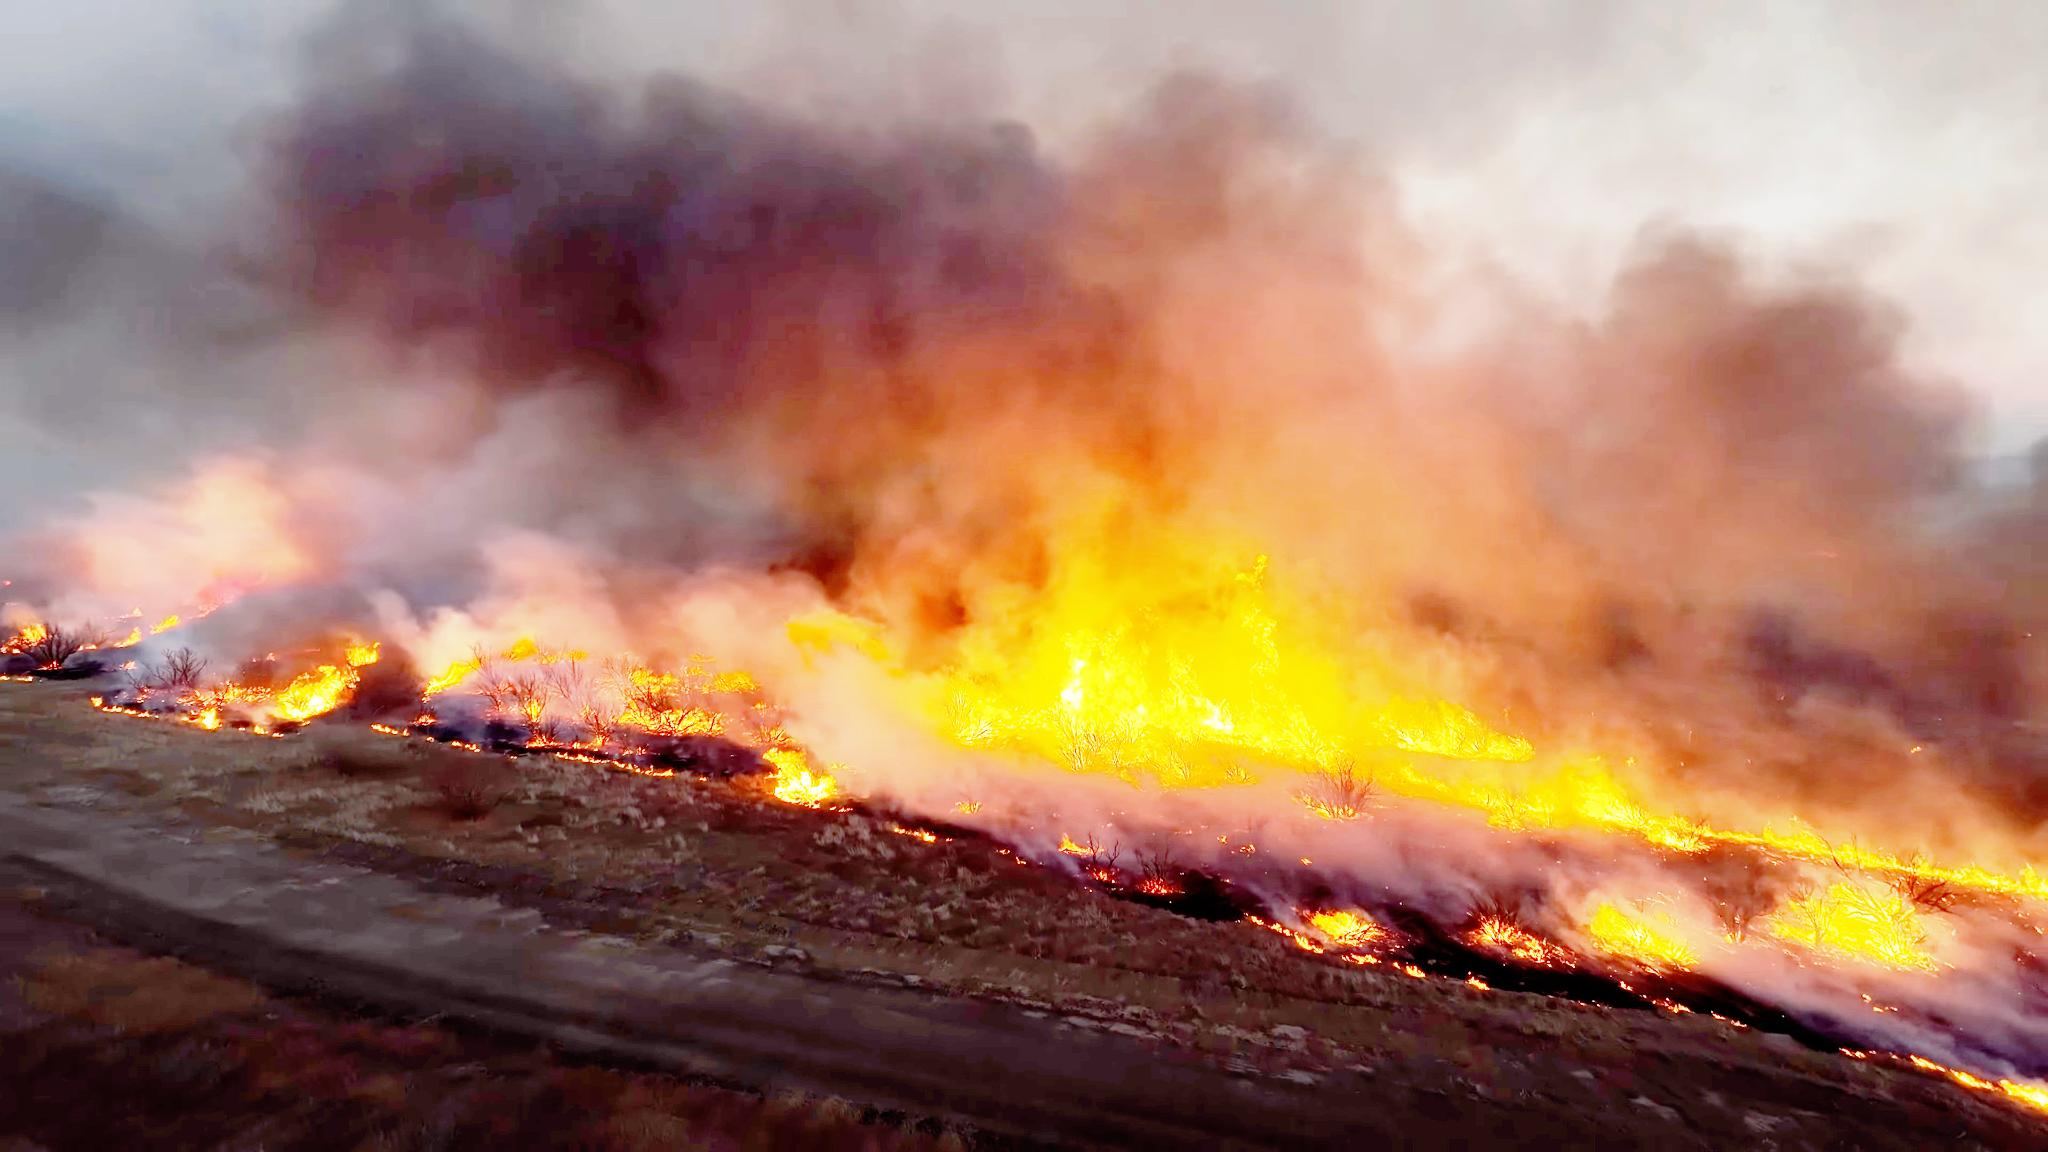fire: (1055, 609, 1324, 758), (1791, 866, 1919, 975)
smoke: (259, 8, 1003, 587), (971, 20, 1708, 544), (1425, 91, 2027, 675)
